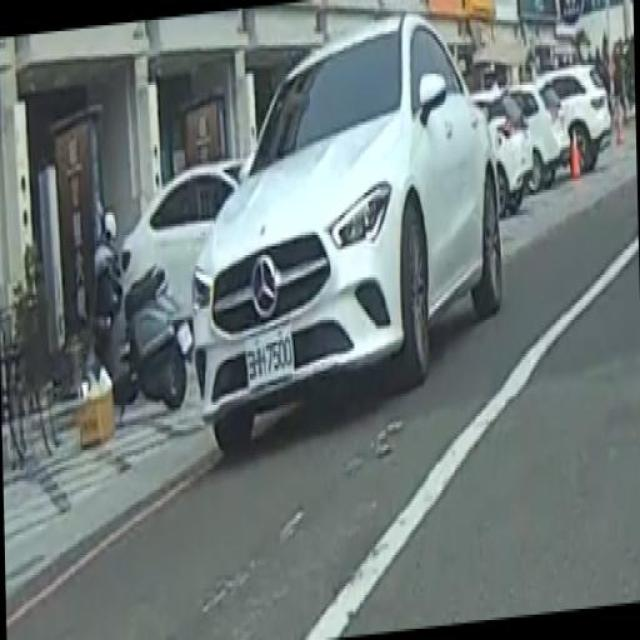Legalparking: (137, 0, 520, 485)
